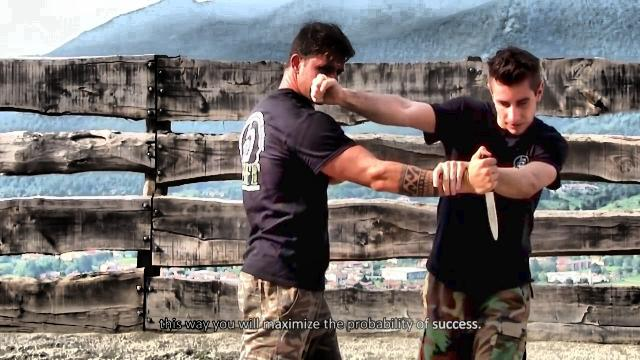knife: (472, 144, 502, 241)
